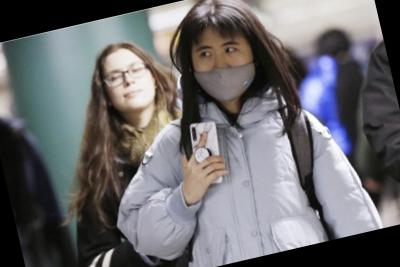with_mask: (187, 35, 264, 108)
without_mask: (100, 58, 160, 118)
